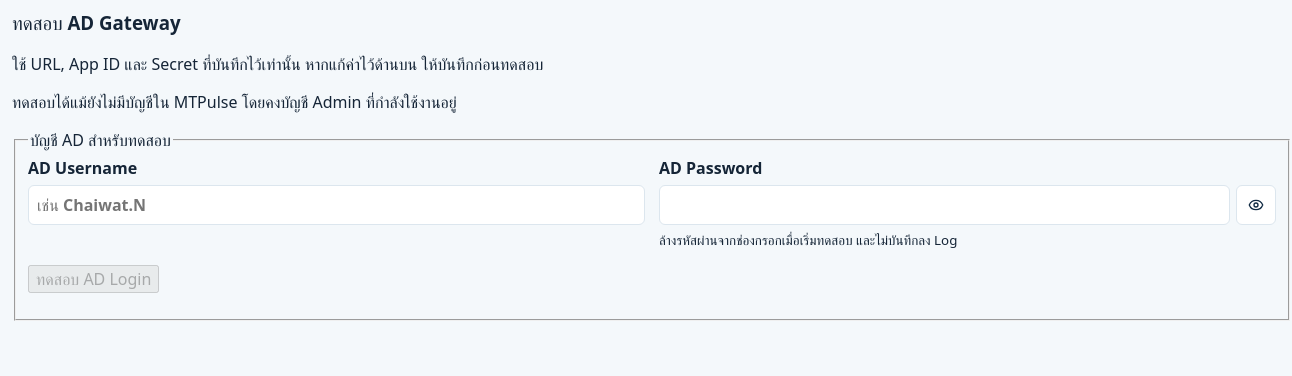
Test: clears credentials after errors and allows another attempt
Type "tester" into the field labelled "AD Username" at (336, 205), box [28, 185, 645, 225]
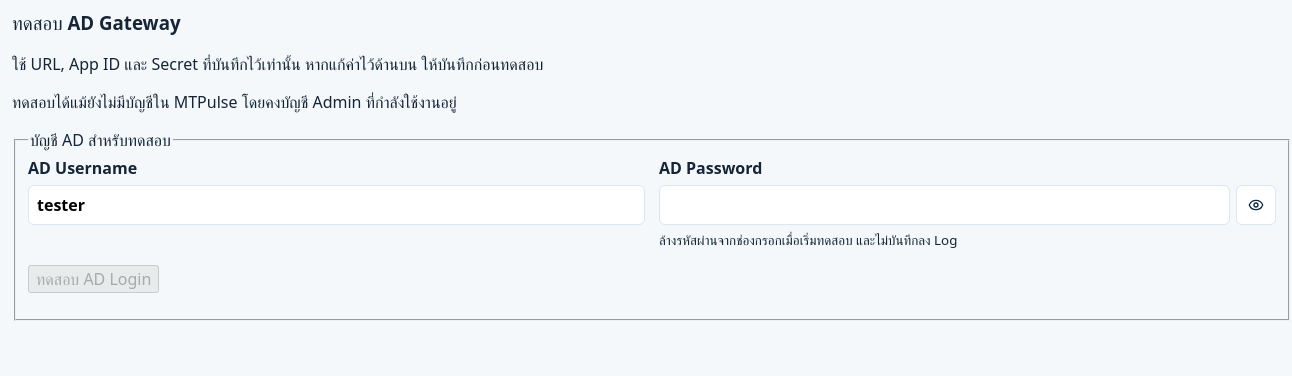
Type "test-password" into the password field labelled "AD Password" at (944, 205), box [659, 185, 1230, 225]
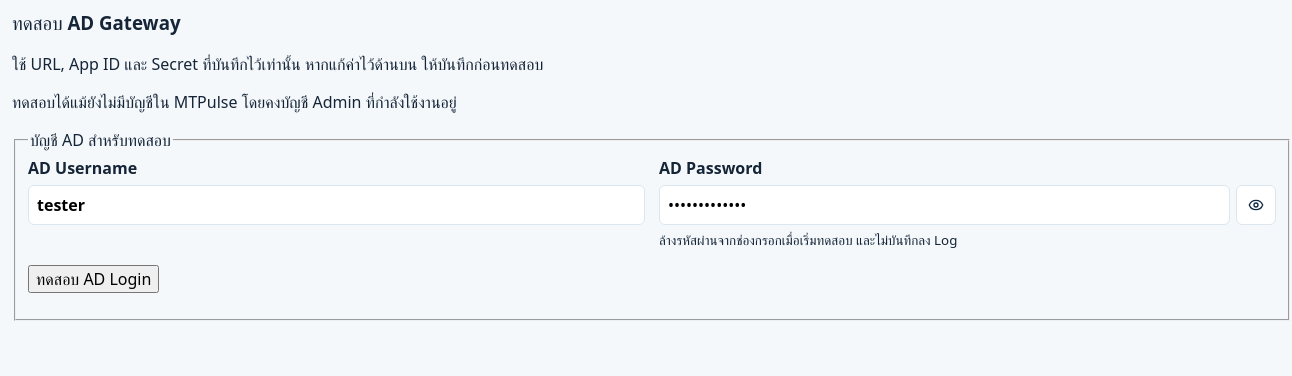
Click the button "ทดสอบ AD Login" at (94, 279), box [28, 265, 159, 293]
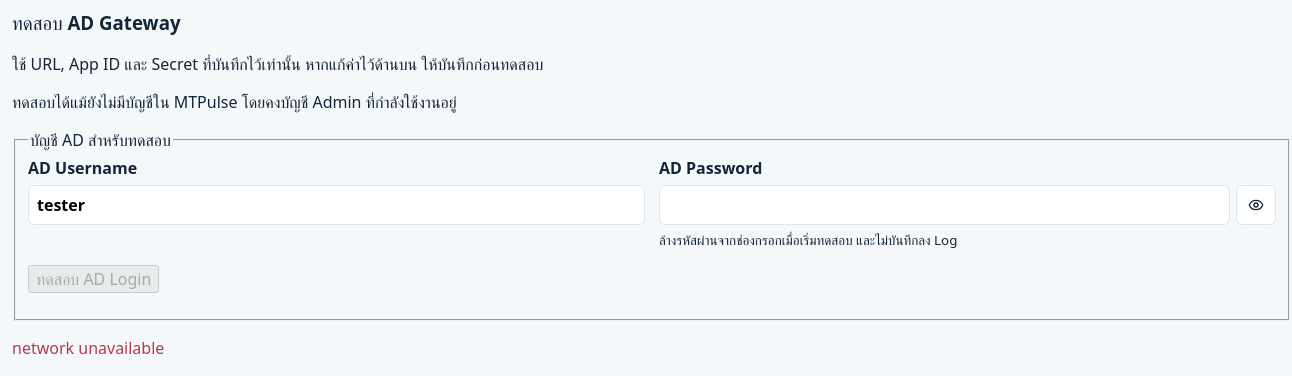
Check: the field labelled "AD Username" is enabled, box [28, 185, 645, 225]
Check: the message reads "network unavailable", box [12, 337, 164, 359]
Check: the password field labelled "AD Password" is empty, box [659, 185, 1230, 225]
